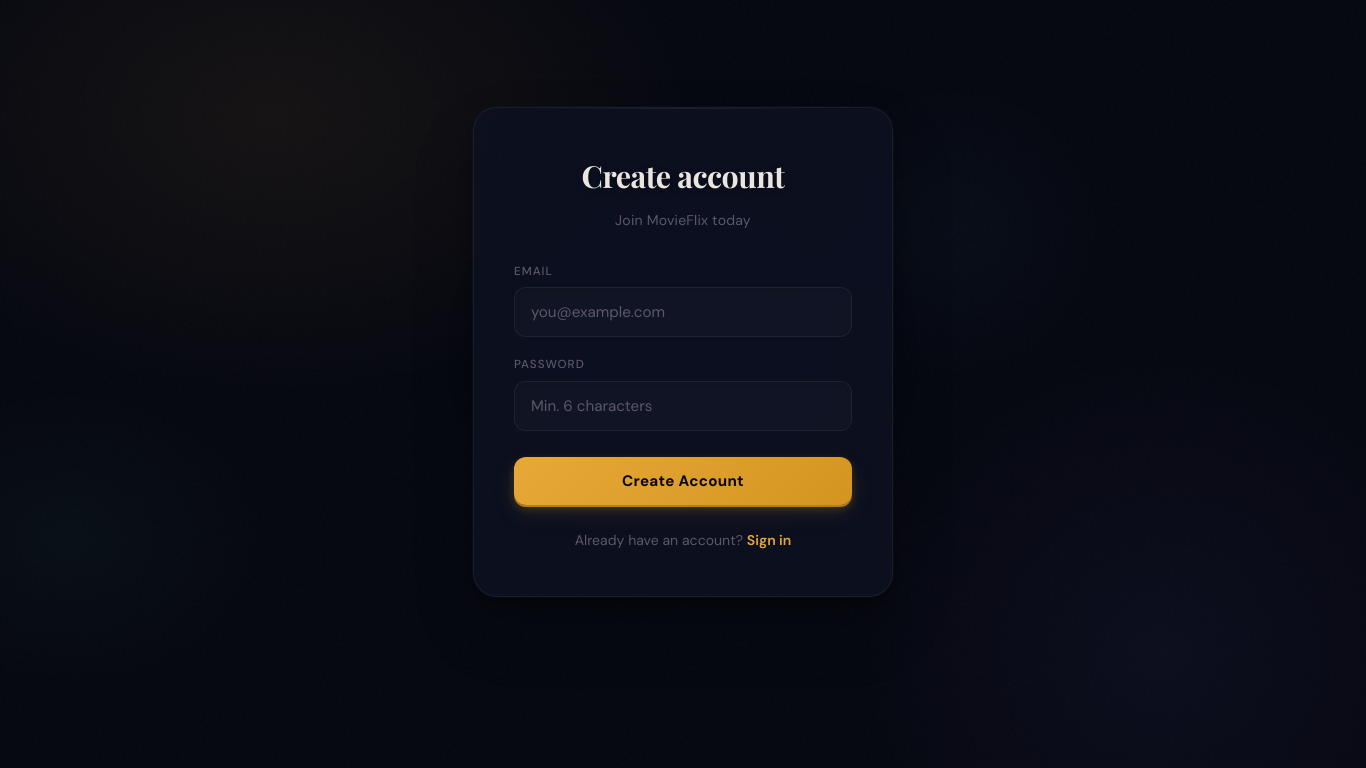
Register › shows error when password is empty
Step 1. Type "test@test.com" into the field with placeholder "you@example.com" → [683, 312], box [514,287,852,337]
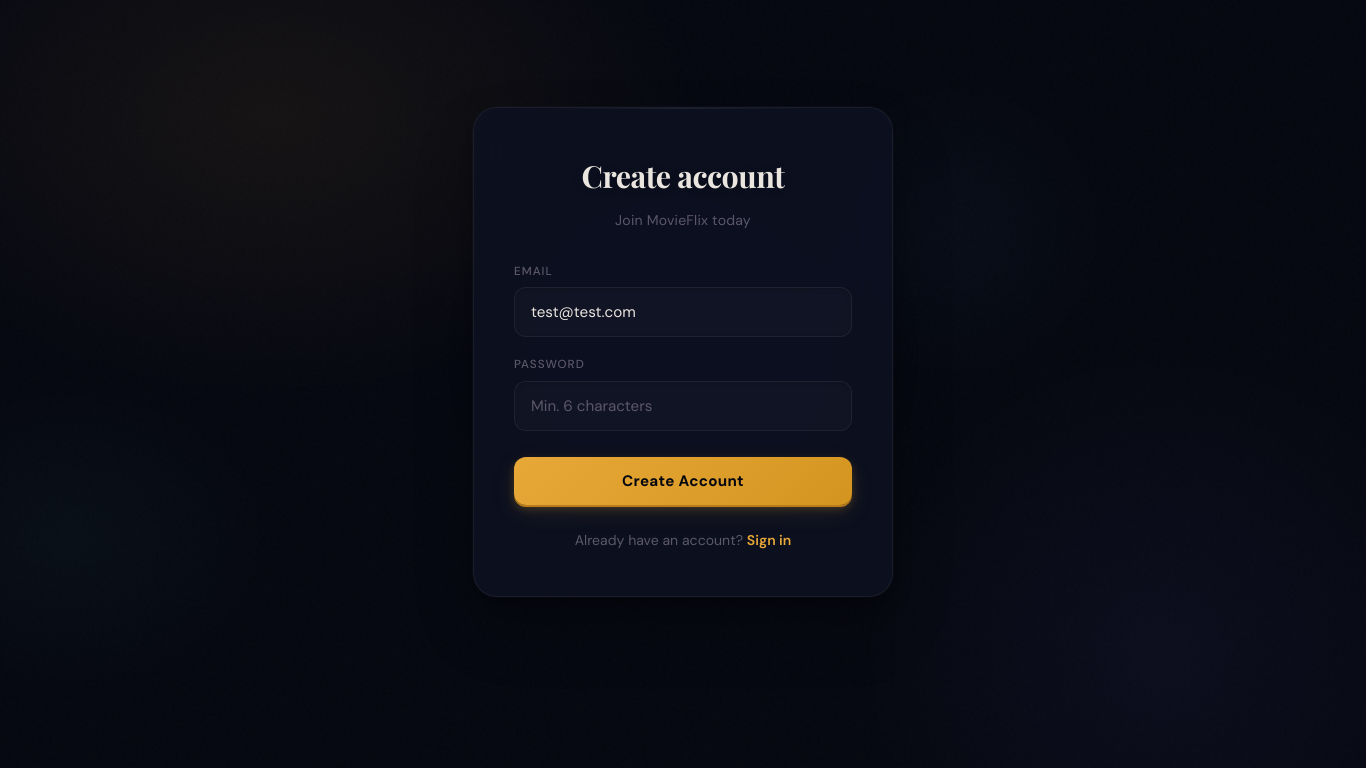
Step 2. Click the button "Create Account" → [683, 481], box [514,457,852,505]
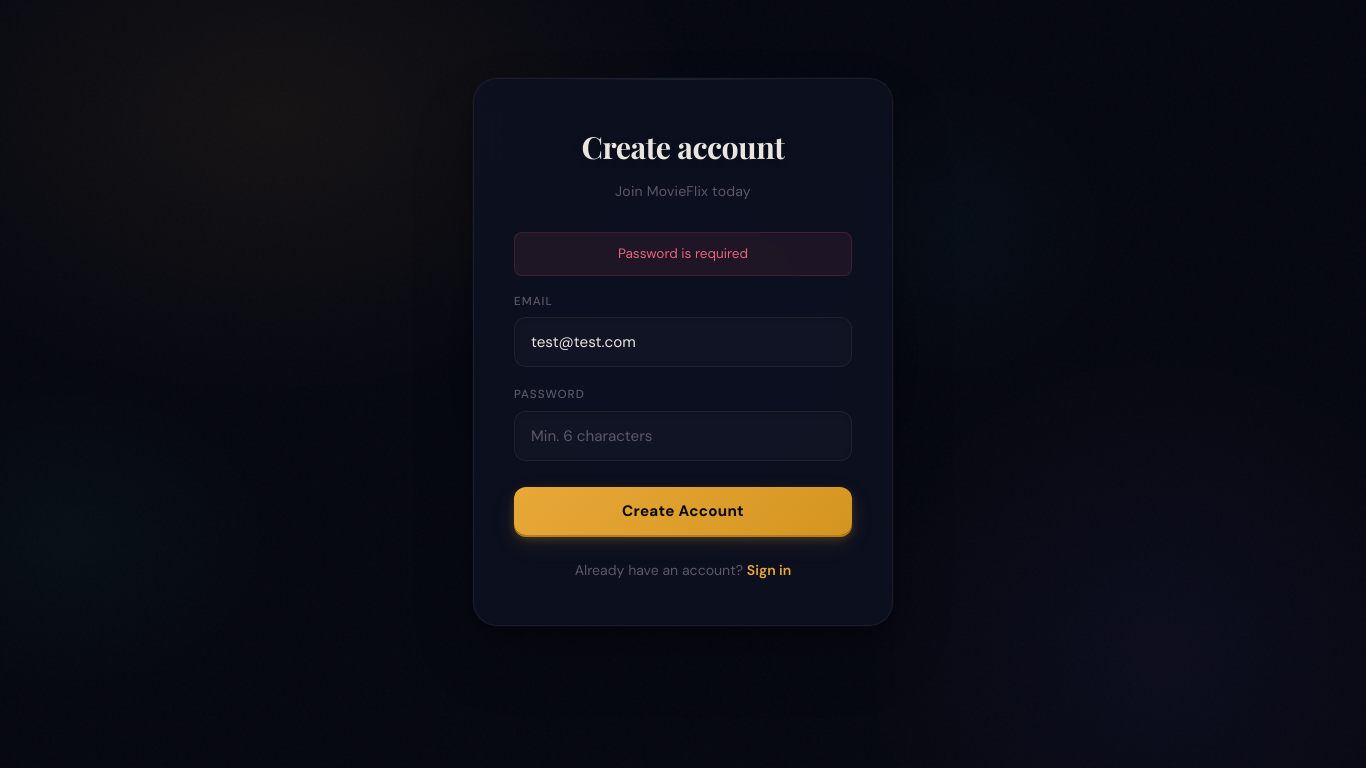
Check: the text "Password is required" is shown, box [514,232,852,276]
